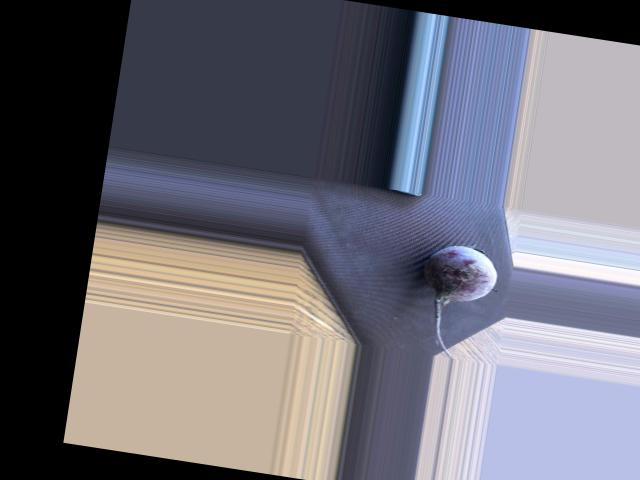beet: (411, 240, 500, 363)
